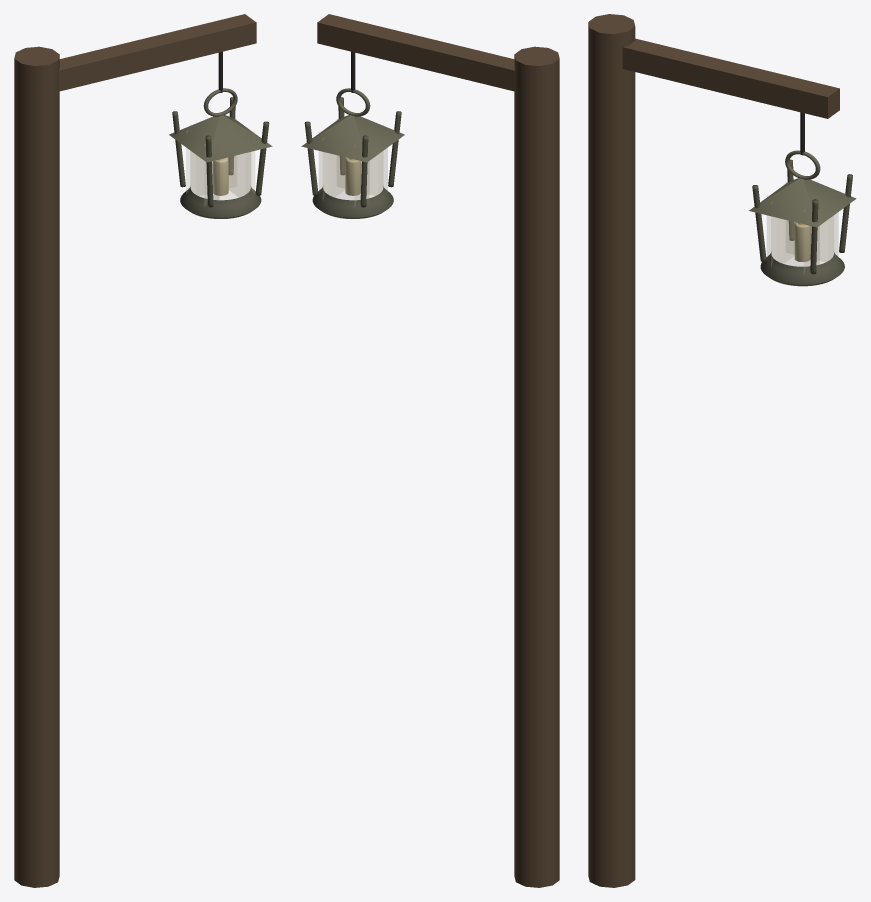
Rendered from props_p8__p8_lantern.glb.
3 views of the same model, side by side, from view 1: azimuth 30°, elevation 25°; view 2: azimuth 150°, elevation 25°; view 3: azimuth 330°, elevation 25° (orthographic). The views are drawn at different scales.
Parts seen in each view (by area): view 1: lantern_post, lantern_arm, glass_panel (×4), pitched_roof, foot, candle; view 2: lantern_post, lantern_arm, glass_panel (×4), pitched_roof, foot, candle; view 3: lantern_post, lantern_arm, glass_panel (×4), pitched_roof, foot, candle.
Part boxes in pixels (x1,y1,x2,y2): lantern_post: (14, 46, 59, 887); lantern_arm: (59, 14, 256, 91); glass_panel (×4): (186, 119, 254, 206); pitched_roof: (169, 115, 272, 162); foot: (180, 186, 261, 218); candle: (213, 157, 228, 195); lantern_post: (514, 46, 559, 887); lantern_arm: (317, 14, 514, 91); glass_panel (×4): (319, 119, 387, 206); pitched_roof: (301, 115, 404, 162); foot: (312, 186, 393, 218); candle: (345, 157, 360, 195); lantern_post: (588, 14, 635, 887); lantern_arm: (622, 38, 839, 118); glass_panel (×4): (767, 182, 838, 273); pitched_roof: (749, 178, 856, 227); foot: (760, 251, 844, 286); candle: (794, 222, 810, 261).
Size of the model in its own units: 0.7125 by 2.37 by 0.2108.
